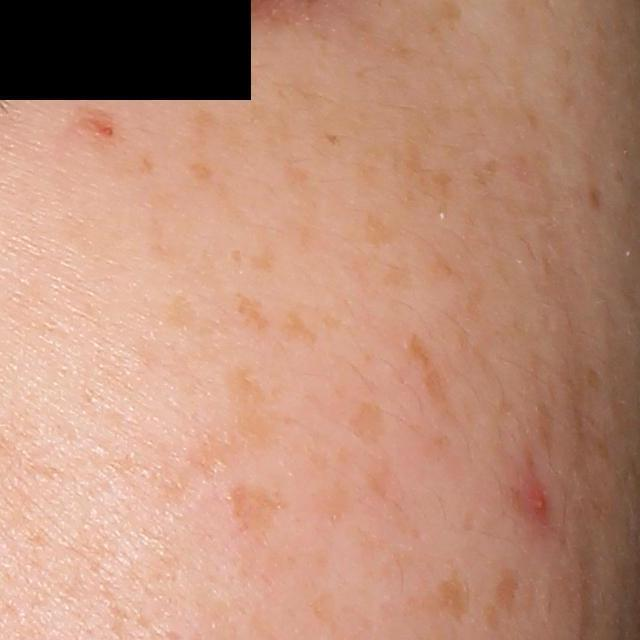melasma: (231, 378, 274, 442), (228, 483, 281, 530), (384, 265, 410, 289)
papule: (524, 472, 549, 529)
